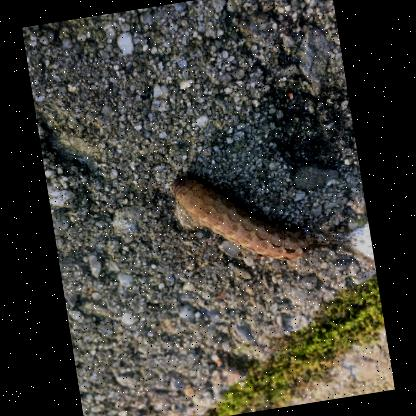Fall Armyworm Larvae: (166, 155, 314, 279)
